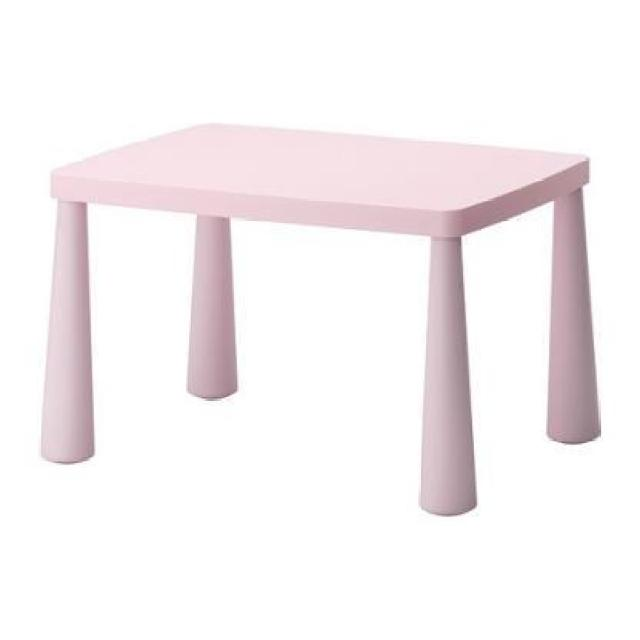tables: (38, 118, 600, 516)
